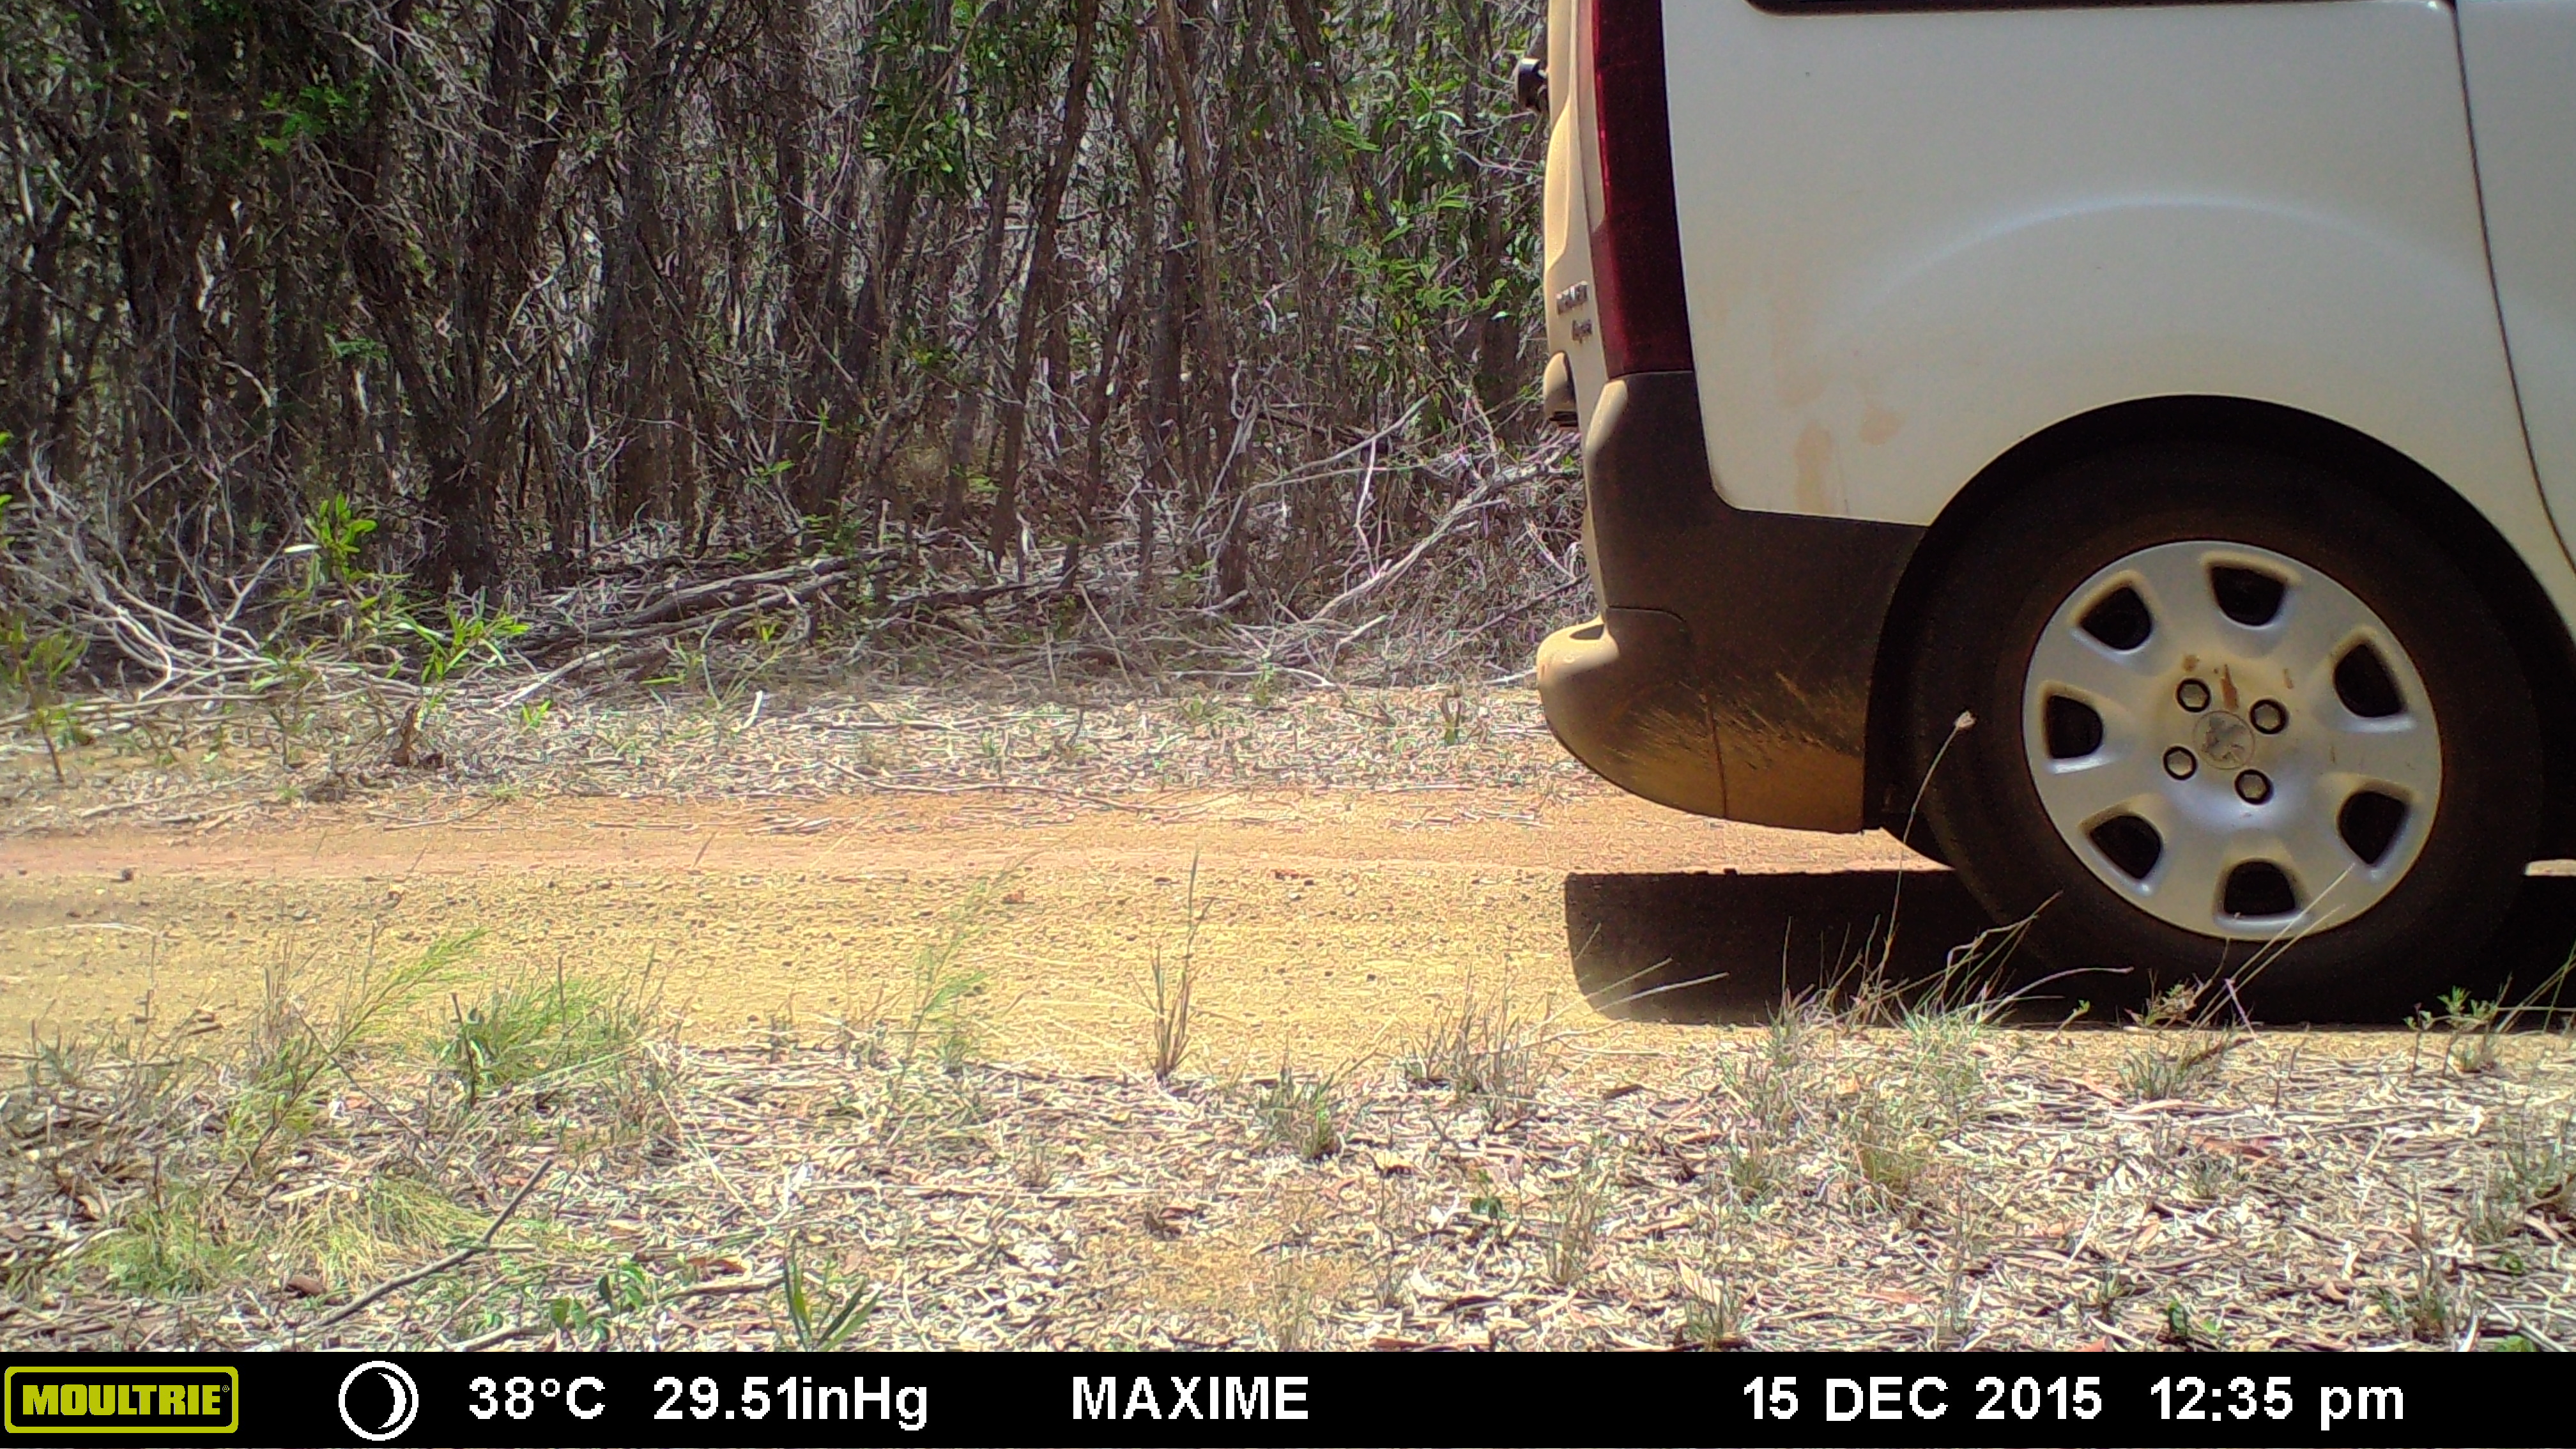Car: (1502, 2, 2572, 1031)
